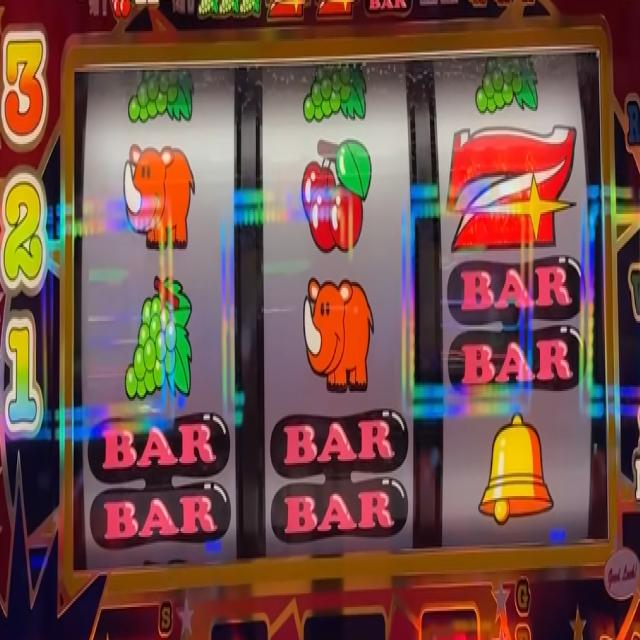bar: (84, 406, 234, 554), (446, 255, 587, 396), (268, 406, 411, 545)
bell: (477, 410, 555, 526)
cherry: (301, 139, 373, 255)
display: (72, 53, 610, 564)
elephant: (303, 274, 375, 396), (122, 142, 196, 252)
grape: (124, 270, 194, 400), (474, 56, 542, 120), (300, 60, 370, 122), (125, 65, 195, 122)
z: (446, 123, 581, 254)
